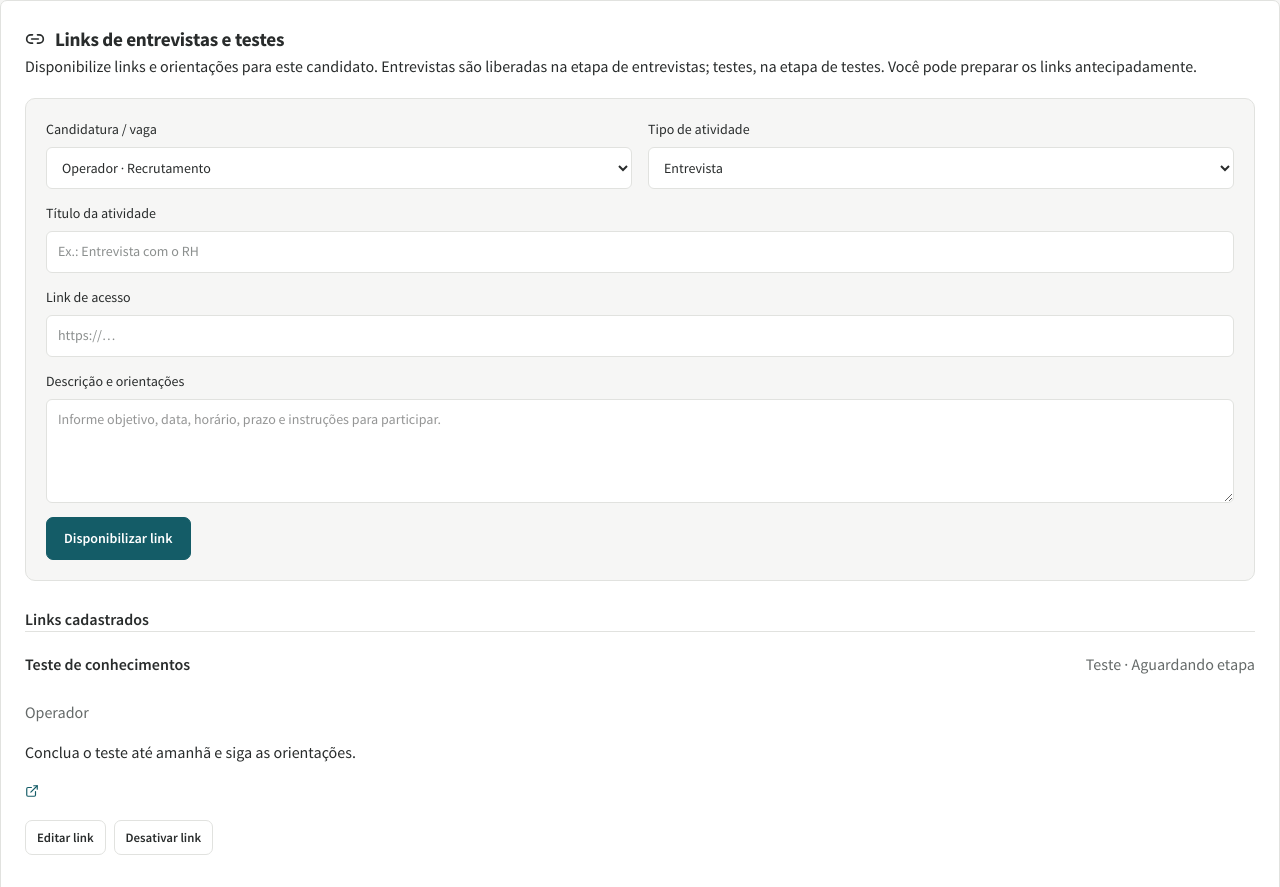
it: cadastra o link com descrição na candidatura escolhida
Type "Teste externo" into the field labelled "Título da atividade" at x=640, y=252, box [46,231,1234,273]
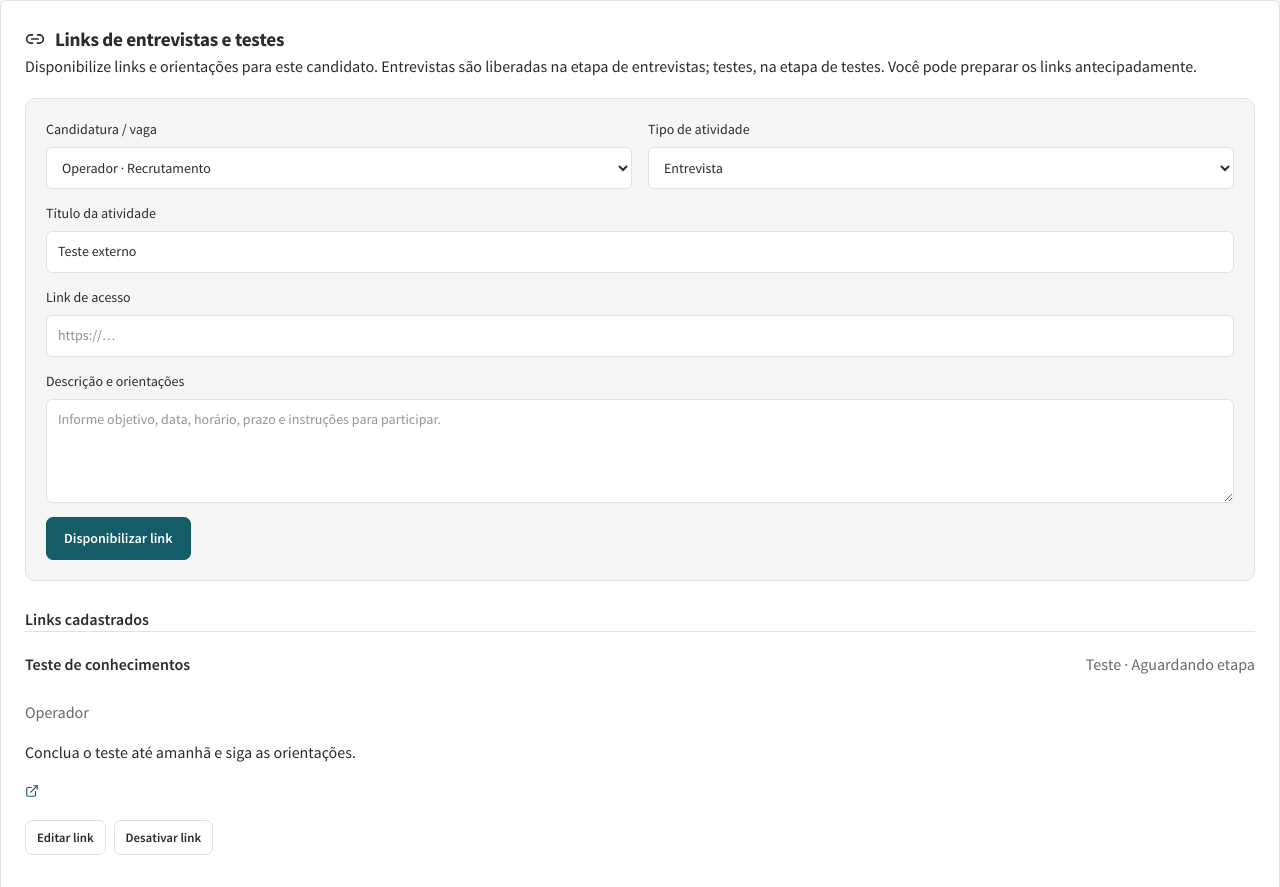
Select "Teste" in the dropdown labelled "Tipo de atividade" at x=941, y=168, box [648,147,1234,189]
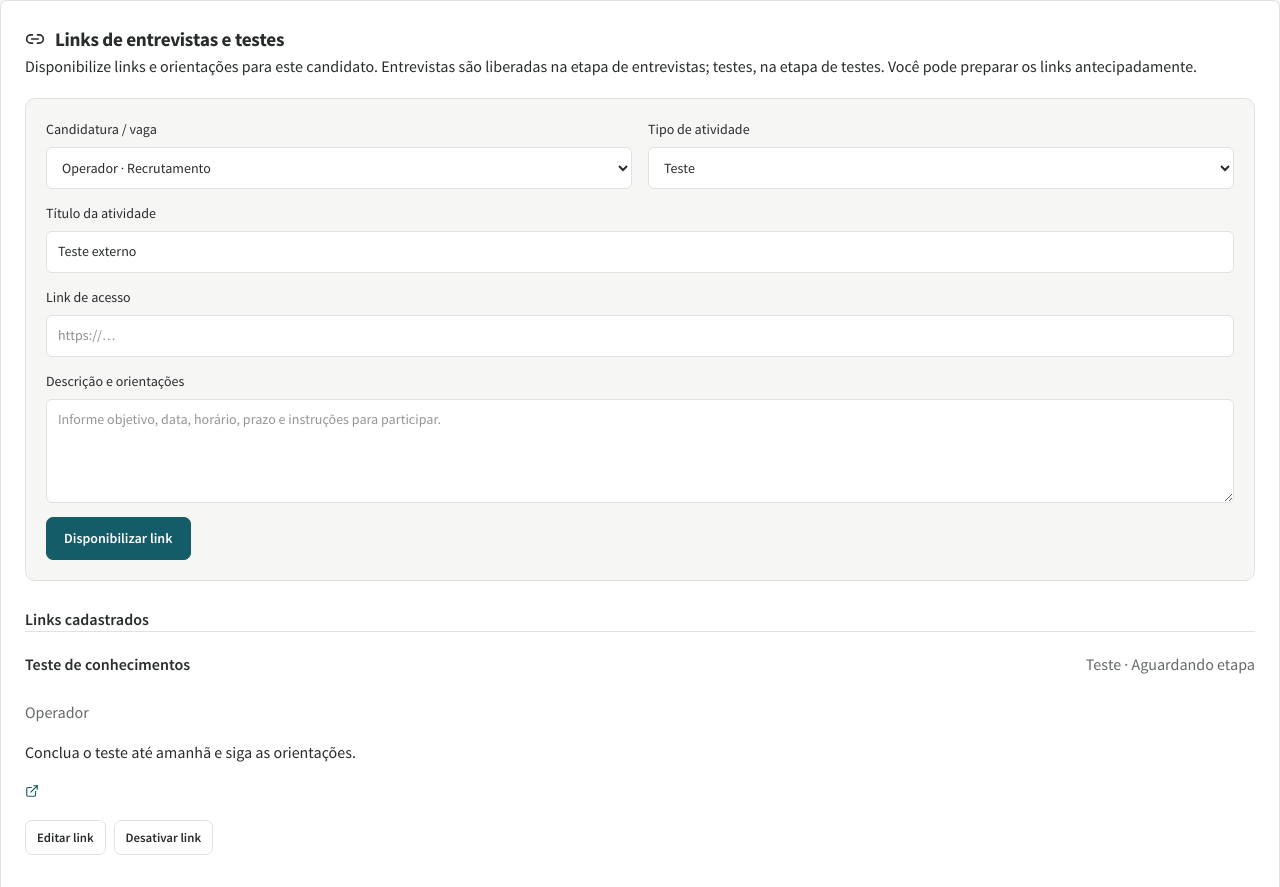
Type "https://example.com/exam" into the field labelled "Link de acesso" at x=640, y=336, box [46,315,1234,357]
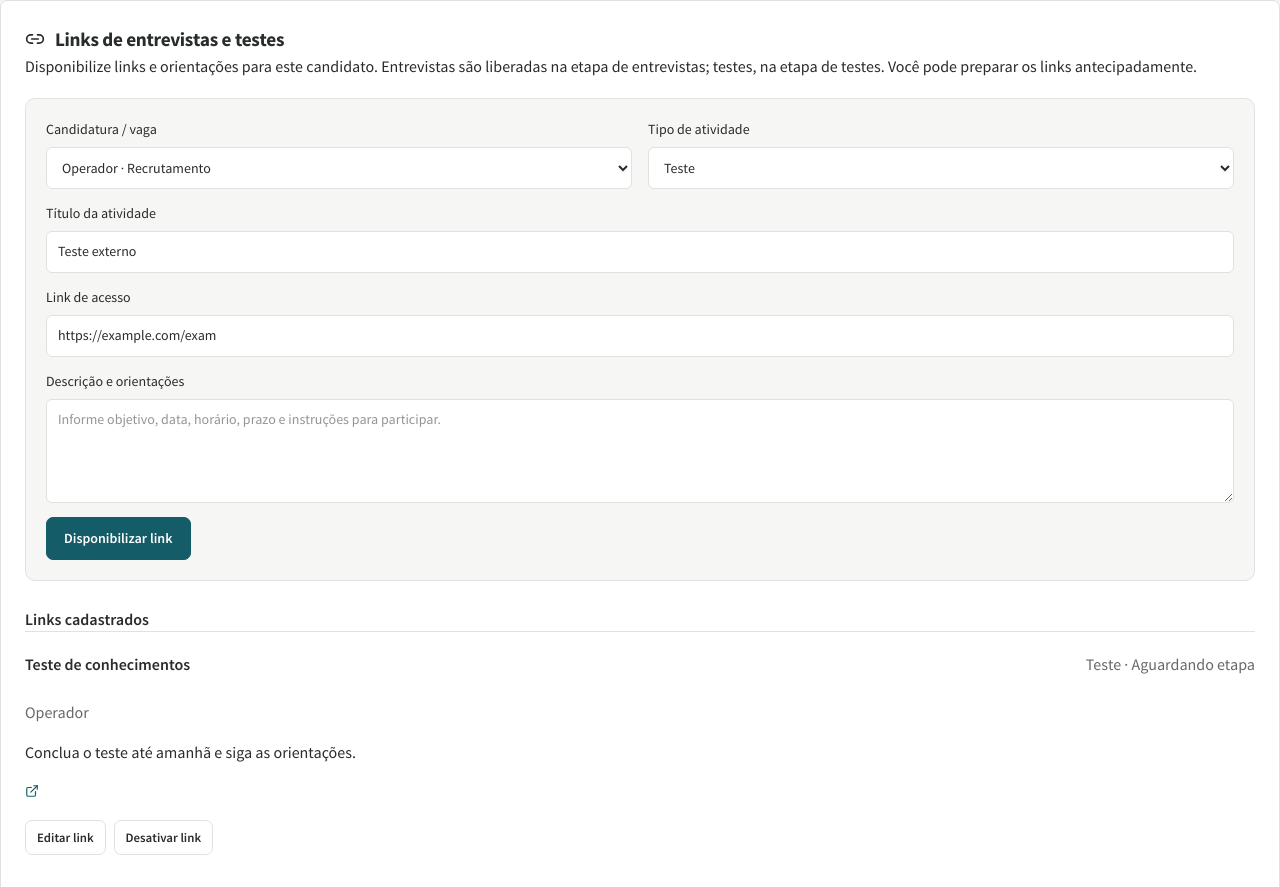
Replace the text in the text box labelled "Descrição e orientações" with "Responda às questões até sexta-feira." at x=640, y=451, box [46,399,1234,503]
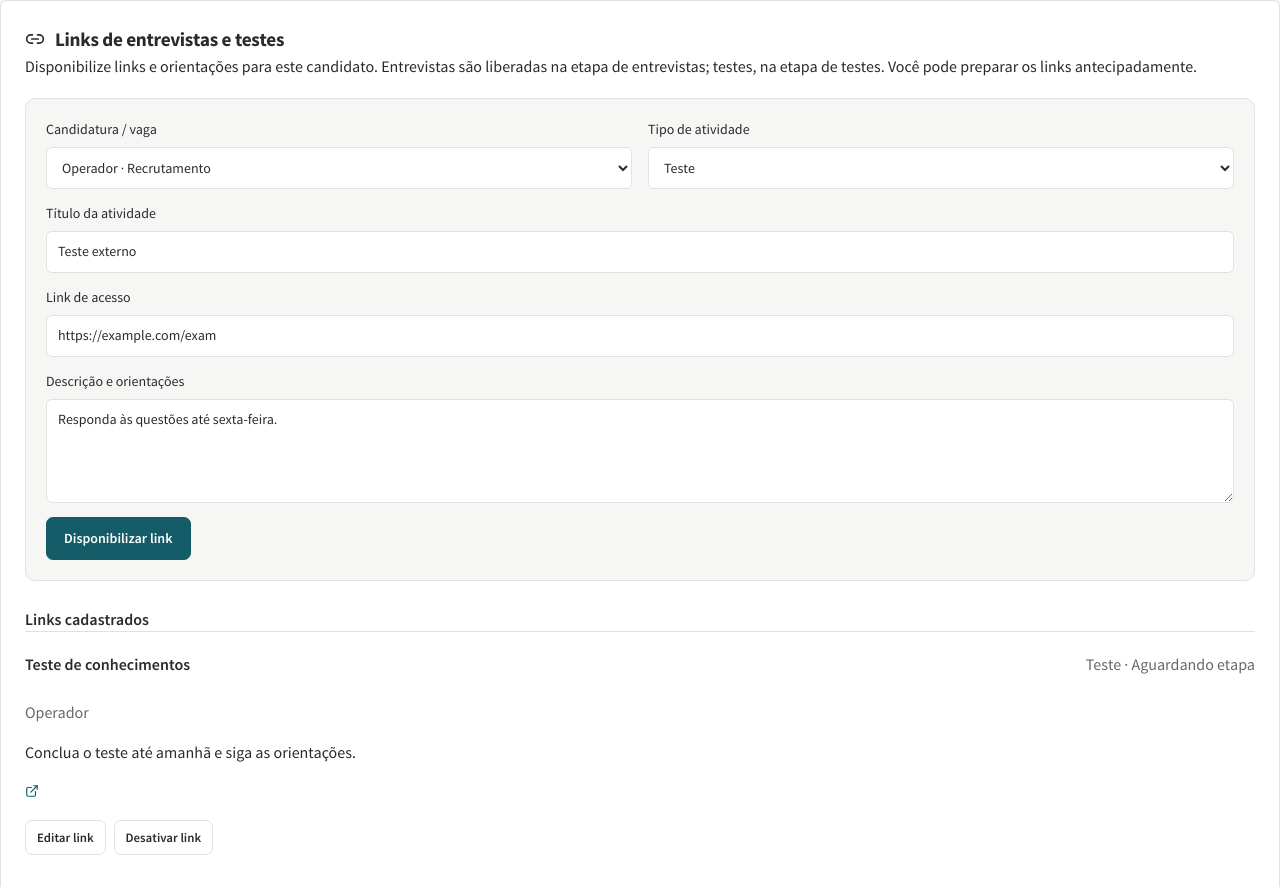
Click the button "Disponibilizar link" at x=118, y=538, box [46,517,190,560]
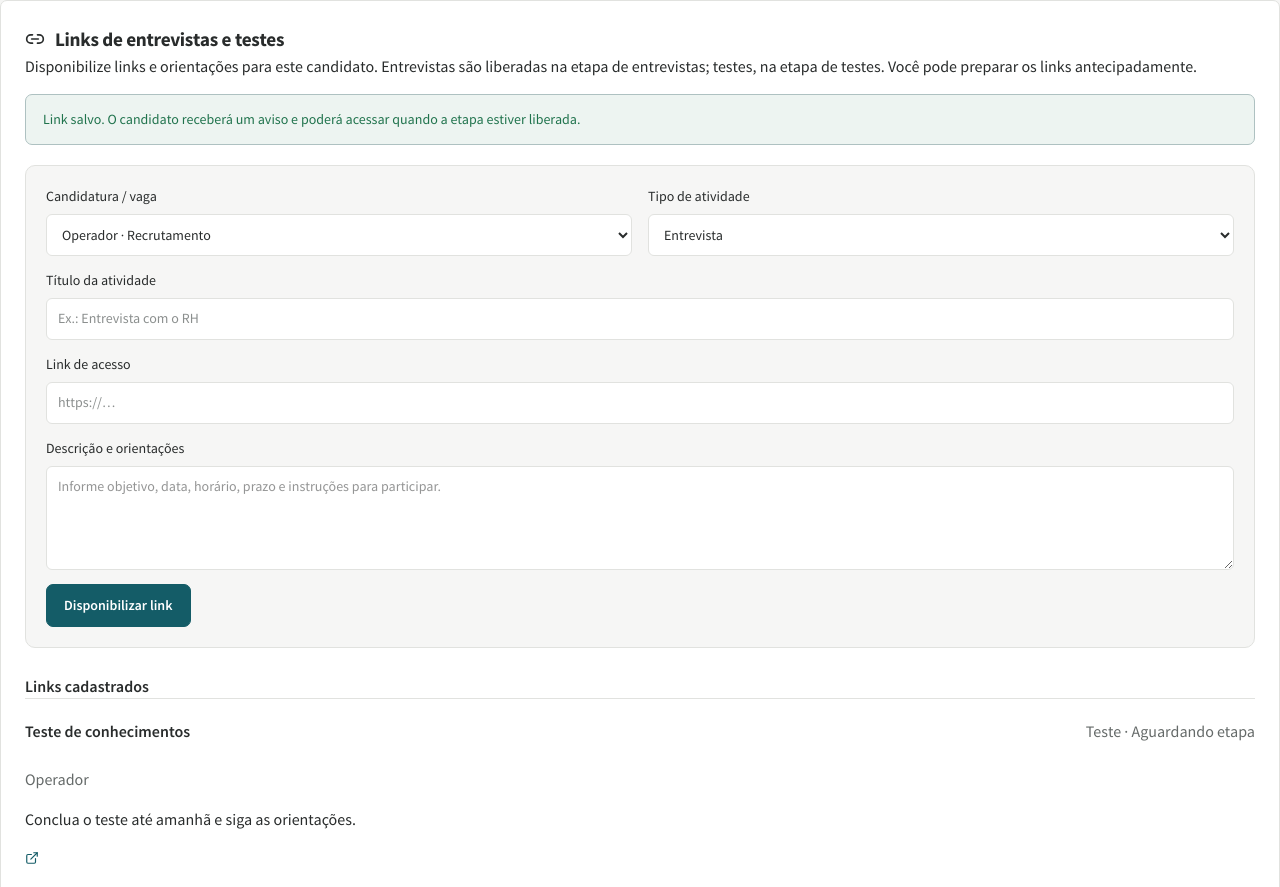
Now the text "Link salvo. O candidato receberá um aviso e poderá acessar quando a etapa estiver liberada." is shown, box [43,110,580,128]
